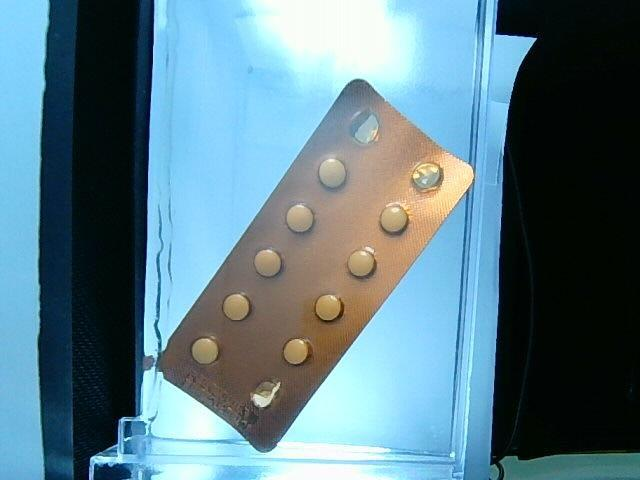Light Front: (158, 79, 475, 455)
No Pill Front: (350, 109, 380, 145), (411, 163, 443, 191), (250, 381, 280, 406)
Pill Front: (348, 246, 376, 277), (380, 204, 408, 234), (319, 158, 346, 188), (315, 294, 343, 322), (254, 249, 282, 277), (286, 204, 313, 232), (223, 293, 250, 321), (191, 338, 218, 364)
